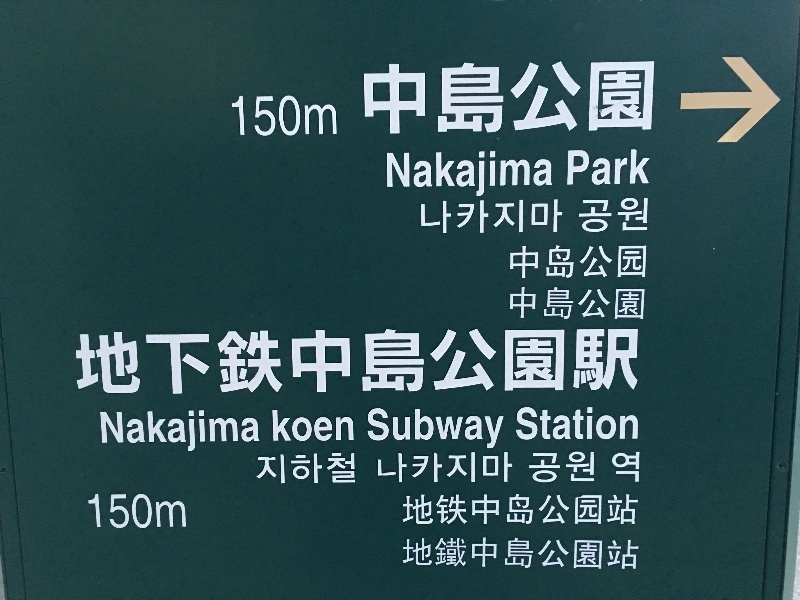text: (369, 61, 384, 135), (385, 61, 400, 135), (401, 61, 416, 135), (417, 61, 432, 135), (433, 61, 448, 135), (449, 61, 464, 135), (465, 61, 480, 135), (481, 61, 496, 135), (497, 61, 512, 135), (513, 61, 528, 135), (529, 61, 544, 135), (545, 61, 560, 135), (561, 61, 576, 135), (577, 61, 592, 135), (593, 61, 608, 135), (609, 61, 624, 135), (625, 61, 640, 135), (641, 61, 655, 135), (81, 328, 96, 396), (97, 328, 112, 396), (113, 328, 128, 396), (129, 328, 144, 396), (145, 328, 160, 396), (161, 328, 176, 396), (177, 328, 192, 396), (193, 328, 208, 396), (209, 328, 224, 396), (225, 328, 240, 396), (241, 328, 256, 396), (257, 328, 272, 396), (273, 328, 288, 396), (289, 328, 304, 396), (305, 328, 320, 396), (321, 328, 336, 396), (337, 328, 352, 396), (353, 328, 368, 396), (369, 328, 384, 396), (385, 328, 400, 396), (401, 328, 416, 396), (417, 328, 432, 396), (433, 328, 448, 396), (449, 328, 464, 396), (465, 328, 480, 396), (481, 328, 496, 396), (497, 328, 512, 396), (513, 328, 528, 396), (529, 328, 544, 396), (545, 328, 560, 396), (561, 328, 576, 396), (577, 328, 592, 396), (593, 328, 608, 396), (609, 328, 624, 396), (625, 328, 639, 396), (401, 151, 416, 199), (417, 151, 432, 199), (433, 151, 448, 199), (449, 151, 464, 199), (465, 151, 480, 199), (481, 151, 496, 199), (497, 151, 512, 199), (513, 151, 528, 199), (529, 151, 544, 199), (321, 96, 337, 137), (113, 410, 128, 453), (129, 410, 144, 453), (145, 410, 160, 453), (161, 410, 176, 453), (177, 410, 192, 453), (193, 410, 208, 453), (209, 410, 224, 453), (225, 410, 240, 453), (241, 410, 256, 453), (387, 151, 400, 199), (241, 96, 256, 137), (257, 96, 272, 137), (273, 96, 288, 137), (289, 96, 304, 137), (305, 96, 320, 137), (369, 409, 384, 450), (385, 409, 400, 450), (401, 409, 416, 450), (417, 409, 432, 450), (433, 409, 448, 450), (449, 409, 464, 450), (465, 409, 480, 450), (481, 409, 496, 450), (577, 150, 592, 186), (593, 150, 608, 186), (609, 150, 624, 186), (625, 150, 640, 186), (593, 197, 608, 233), (609, 197, 624, 233), (625, 197, 640, 233), (625, 538, 641, 571), (513, 286, 528, 321), (529, 286, 544, 321), (545, 286, 560, 321), (561, 286, 576, 321), (577, 286, 592, 321), (593, 286, 608, 321), (609, 286, 624, 321), (625, 286, 640, 321), (97, 494, 112, 529), (113, 494, 128, 529), (129, 494, 144, 529), (145, 494, 160, 529), (161, 494, 176, 529), (433, 199, 448, 234), (449, 199, 464, 234), (465, 199, 480, 234), (481, 199, 496, 234), (497, 199, 512, 234), (513, 199, 528, 234), (529, 199, 544, 234), (545, 199, 560, 234), (100, 410, 112, 453), (513, 245, 528, 279), (529, 245, 544, 279), (545, 245, 560, 279), (561, 245, 576, 279), (577, 245, 592, 279), (593, 245, 608, 279), (609, 245, 624, 279), (625, 245, 640, 279), (529, 408, 544, 442), (545, 408, 560, 442), (561, 408, 576, 442), (577, 408, 592, 442), (593, 408, 608, 442), (609, 408, 624, 442), (497, 452, 513, 483), (417, 538, 432, 571), (433, 538, 448, 571), (449, 538, 464, 571), (465, 538, 480, 571), (481, 538, 496, 571), (497, 538, 512, 571), (513, 538, 528, 571), (529, 538, 544, 571), (545, 538, 560, 571), (561, 538, 576, 571), (577, 538, 592, 571), (593, 538, 608, 571), (609, 538, 624, 571), (273, 411, 288, 443), (289, 411, 304, 443), (305, 411, 320, 443), (321, 411, 336, 443), (337, 411, 352, 443), (417, 494, 432, 526), (433, 494, 448, 526), (449, 494, 464, 526), (465, 494, 480, 526), (481, 494, 496, 526), (497, 494, 512, 526), (513, 494, 528, 526), (529, 494, 544, 526), (545, 494, 560, 526), (561, 494, 576, 526), (577, 494, 592, 526), (593, 494, 608, 526), (609, 494, 624, 526), (257, 452, 272, 484), (273, 452, 288, 484), (289, 452, 304, 484), (305, 452, 320, 484), (321, 452, 336, 484), (337, 452, 352, 484), (625, 408, 639, 442), (579, 197, 592, 233), (385, 452, 400, 483), (401, 452, 416, 483), (417, 452, 432, 483), (433, 452, 448, 483), (449, 452, 464, 483), (465, 452, 480, 483), (481, 452, 496, 483), (529, 452, 544, 483), (545, 452, 560, 483), (561, 452, 576, 483), (577, 452, 592, 483), (625, 452, 640, 482), (625, 494, 639, 526), (545, 151, 554, 199), (403, 538, 416, 571), (403, 494, 416, 526), (516, 408, 528, 442), (421, 199, 432, 234), (231, 96, 240, 137), (641, 150, 651, 186), (612, 452, 624, 482), (177, 494, 187, 529), (75, 328, 80, 396), (497, 409, 505, 450), (364, 61, 368, 135), (568, 150, 576, 186), (88, 494, 96, 529), (641, 197, 648, 233), (641, 245, 647, 279), (378, 452, 384, 483), (257, 410, 261, 453), (641, 286, 645, 321), (561, 199, 563, 234), (510, 245, 512, 279), (353, 411, 355, 443), (353, 452, 355, 484), (593, 452, 595, 483), (367, 409, 368, 450), (511, 286, 512, 321)
